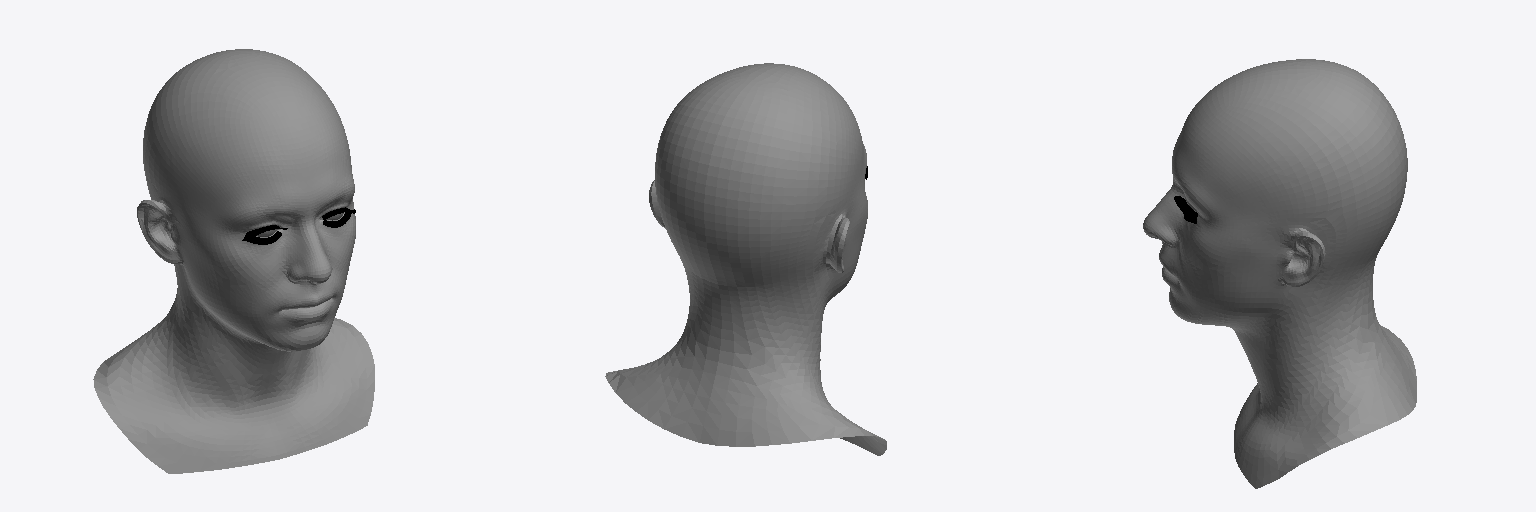
Rendered from identity014.obj.
The picture shows the model from 3 angles: view 1: azimuth 30°, elevation 25°; view 2: azimuth 150°, elevation 25°; view 3: azimuth 270°, elevation 25°; orthographic projection.
Bounding box in the file's own units: 24.93 × 33.71 × 22.38.